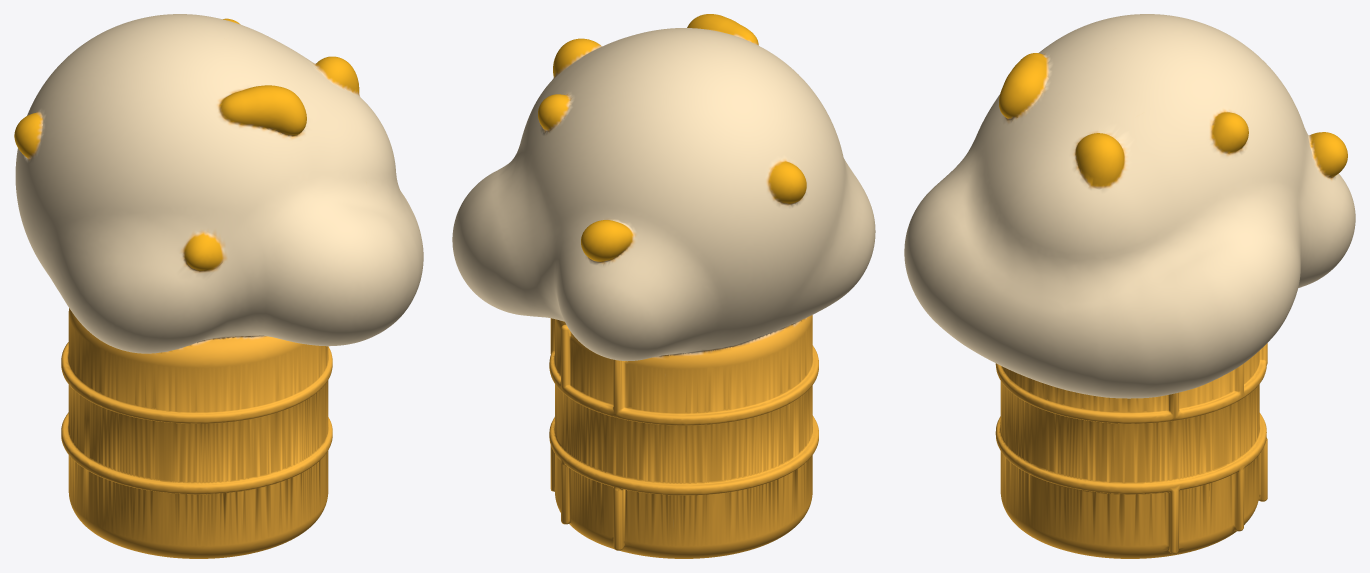
3 renders of one model, left to right at view 1: azimuth 30°, elevation 25°; view 2: azimuth 150°, elevation 25°; view 3: azimuth 270°, elevation 25°, orthographic.
Parts seen in each view (by area): view 1: Area (1); view 2: Area (1); view 3: Area (1).
Part boxes in pixels (left/top/right/bottom): Area (1): left=14, top=14, right=423, bottom=558; Area (1): left=452, top=14, right=875, bottom=558; Area (1): left=904, top=14, right=1355, bottom=558.
Bounding box in the file's own units: 82.24 × 107 × 91.85.
1 material, 1 textured.
